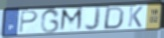D: (102, 6, 126, 30)
G: (39, 8, 61, 34)
J: (84, 6, 103, 32)
K: (127, 6, 144, 28)
M: (59, 7, 85, 33)
P: (18, 10, 40, 34)
